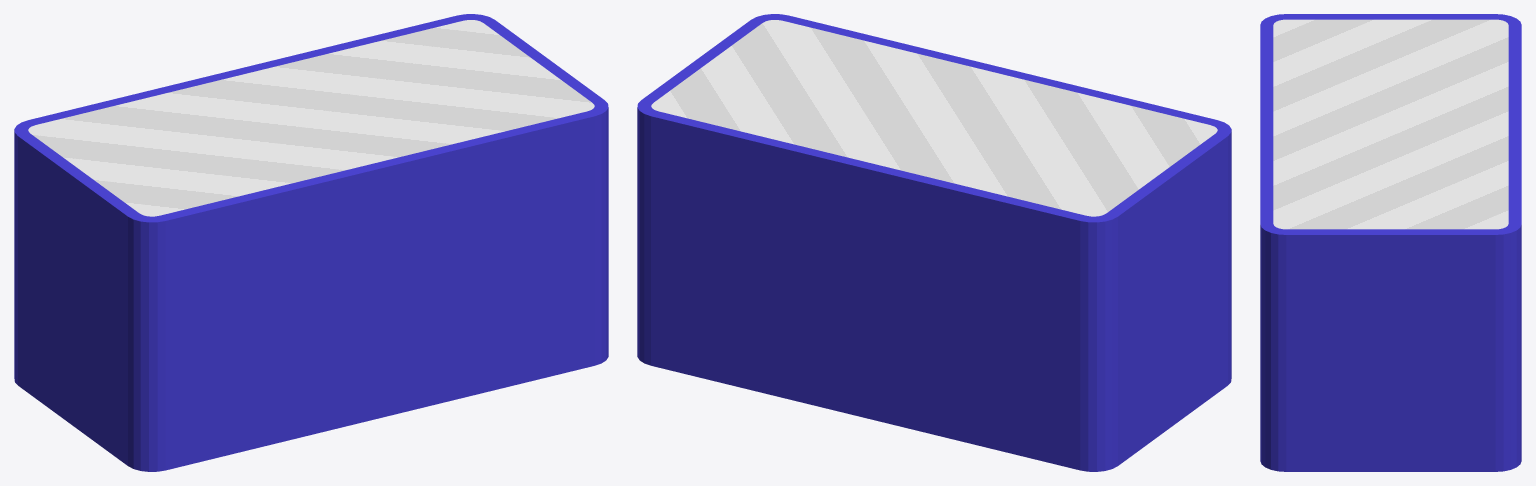
Rendered from Level.fbx.
3 renders of one model, left to right at view 1: azimuth 30°, elevation 25°; view 2: azimuth 150°, elevation 25°; view 3: azimuth 270°, elevation 25°, orthographic. The views are drawn at different scales.
Parts seen in each view (by area): view 1: 4x2; view 2: 4x2; view 3: 4x2.
Part boxes in pixels (x1,y1,x2,y2): 4x2: (14, 14, 608, 471); 4x2: (637, 14, 1231, 471); 4x2: (1260, 14, 1521, 471).
Size of the model in its own units: 2000 by 1000 by 1000.
